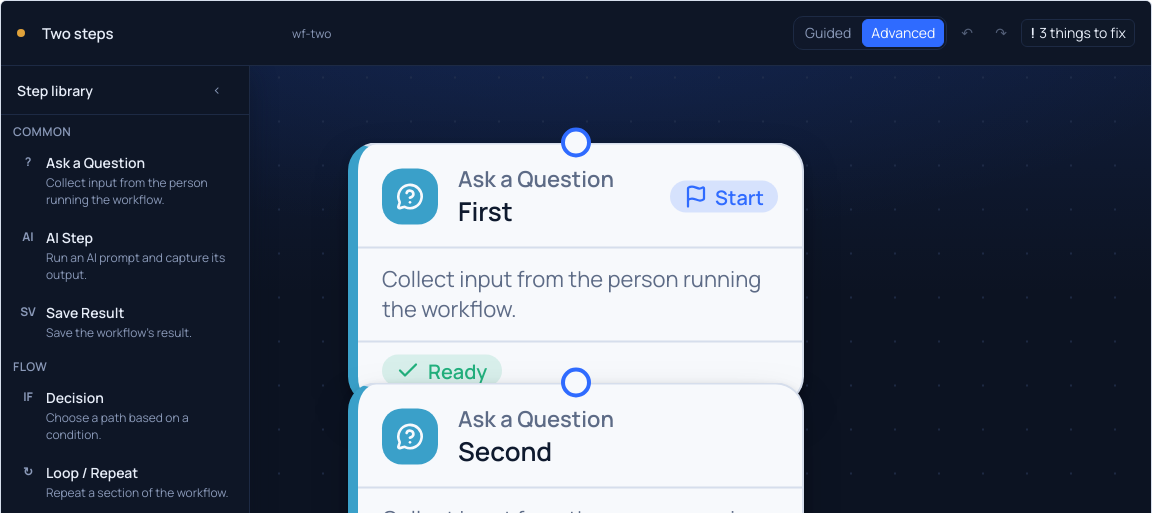
Start-step chooser scoping (Guided edit mode only) › never renders in read-only mode, even when the stored builder mode is Guided
The width and height of the screenshot is (1152, 513).
Click the button with test id "workflow-builder-mode-guided". click: click(828, 33)
box: [796, 19, 860, 47]
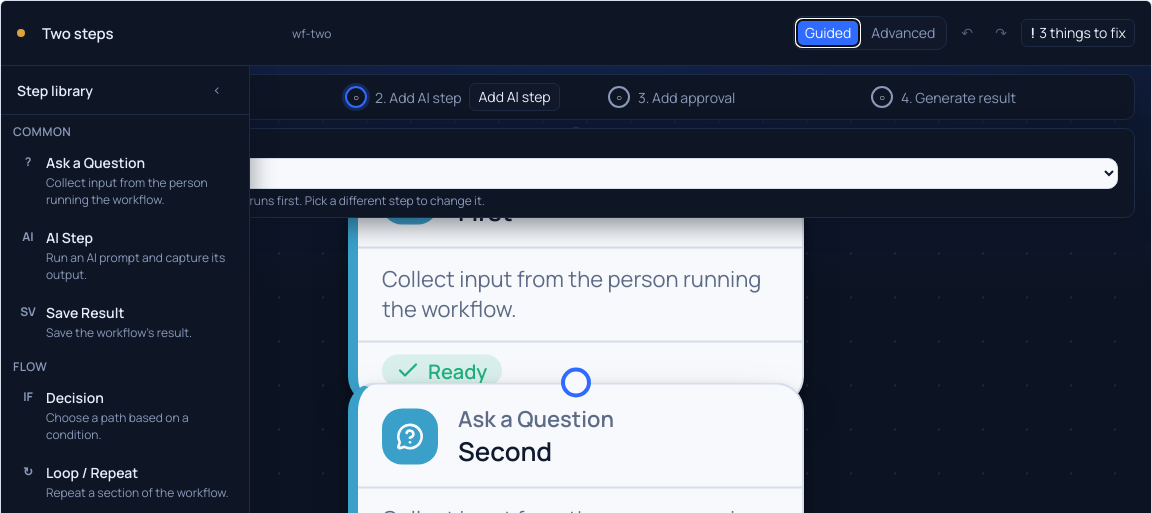
Expected: the dropdown with test id "guided-start-step-select" is shown, [90, 158, 1118, 188]
